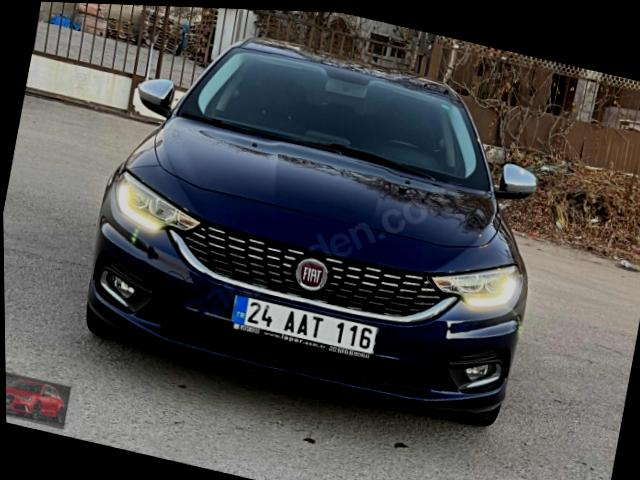plaka: (231, 296, 377, 358)
